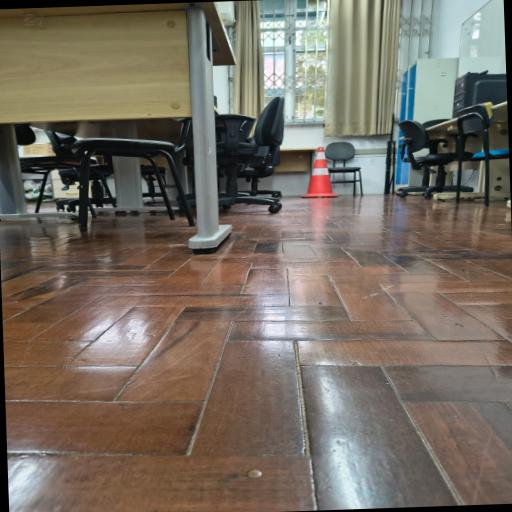cone: (300, 143, 344, 204)
